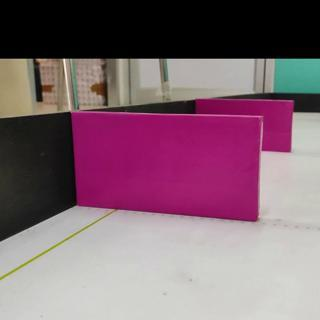xparking: (76, 113, 260, 221), (265, 99, 292, 152)
